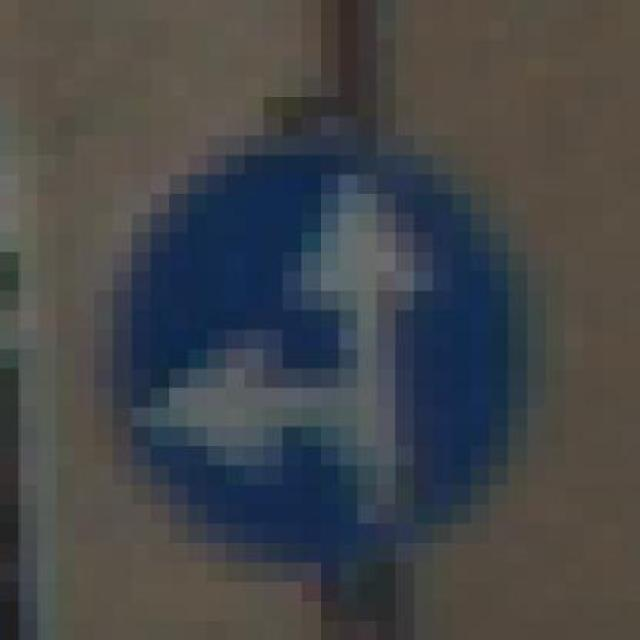Go straight or turn left: (112, 97, 546, 581)
